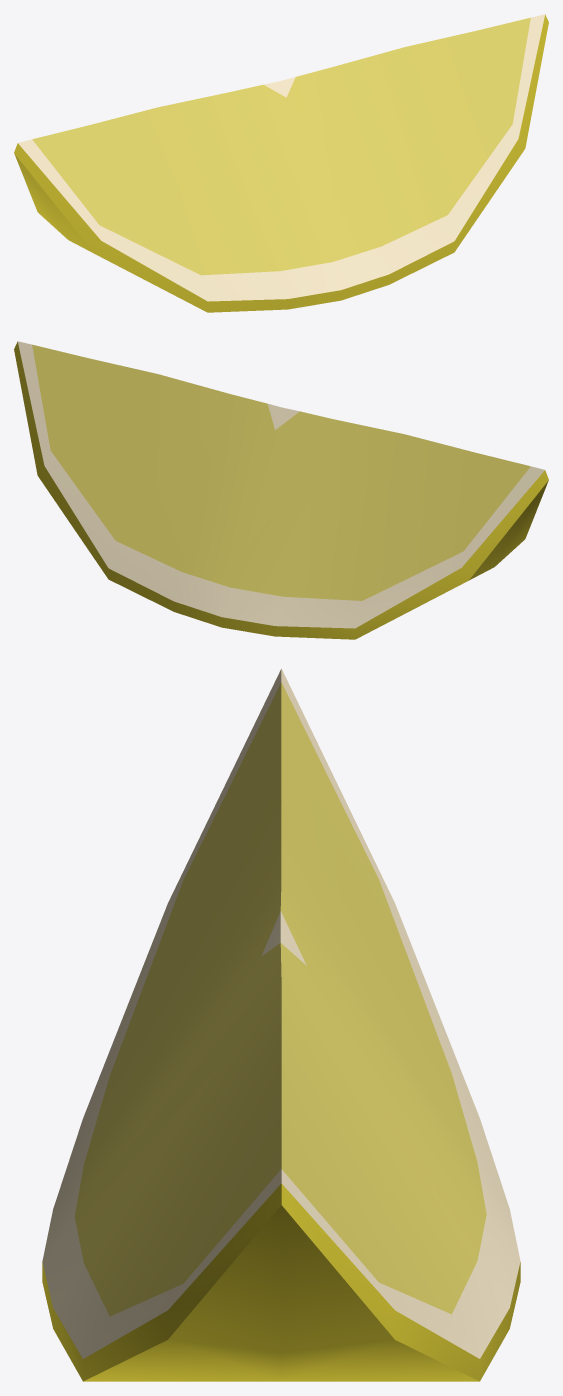
The model's file is lemon_slices.fbx.
The picture shows the model from 3 angles, top to bottom: view 1: azimuth 30°, elevation 25°; view 2: azimuth 150°, elevation 25°; view 3: azimuth 270°, elevation 25°; orthographic projection. The views are drawn at different scales.
Visible parts, largest first — view 1: LemonSliceBackup; view 2: LemonSliceBackup; view 3: LemonSliceBackup.
Boxes of the visible parts, x1,y1,x2,y2 form: LemonSliceBackup: [14, 14, 548, 312]; LemonSliceBackup: [14, 341, 548, 639]; LemonSliceBackup: [42, 668, 520, 1381].
Size of the model in its own units: 430 by 138 by 166.
